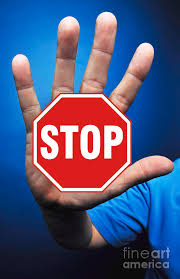SS: (32, 93, 131, 195)
